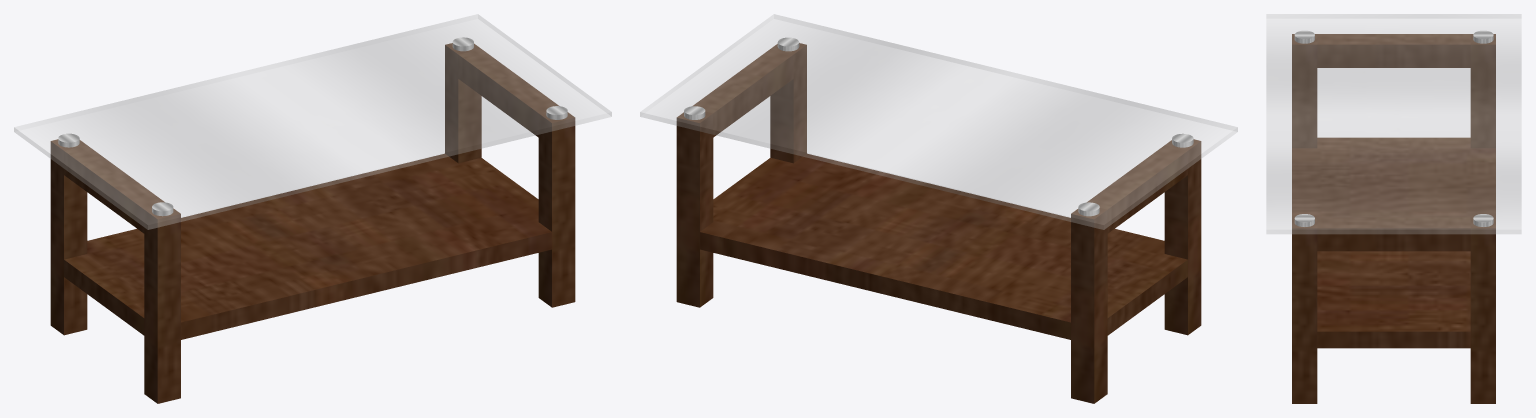
The model's file is table.glb.
3 views of the same model, side by side, from view 1: azimuth 30°, elevation 25°; view 2: azimuth 150°, elevation 25°; view 3: azimuth 270°, elevation 25° (orthographic). The views are drawn at different scales.
Visible parts, largest first — view 1: Material2 (×8); view 2: Material2 (×8); view 3: Material2 (×12).
Boxes of the visible parts, <box> form: Material2 (×8): <box>14,14,611,403</box>; Material2 (×8): <box>640,14,1237,403</box>; Material2 (×12): <box>1266,14,1521,403</box>.
Size of the model in its own units: 39.37 by 15.75 by 19.69.
Materials: 3 (3 with a texture image).
